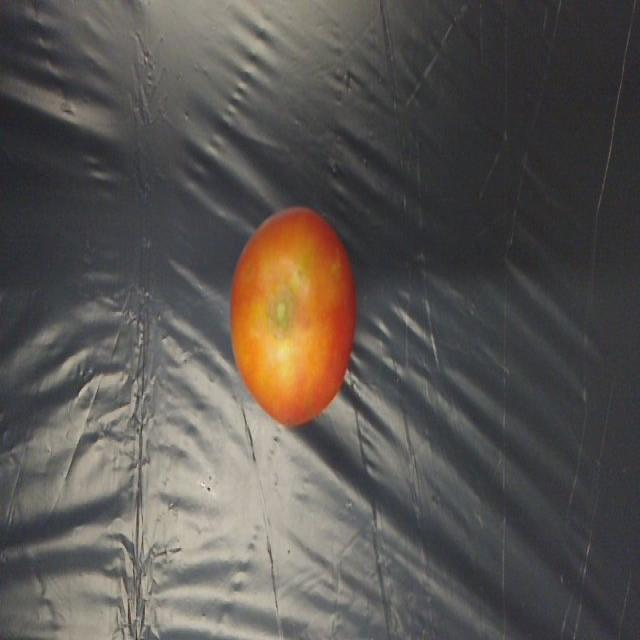sari: (214, 183, 359, 428)
